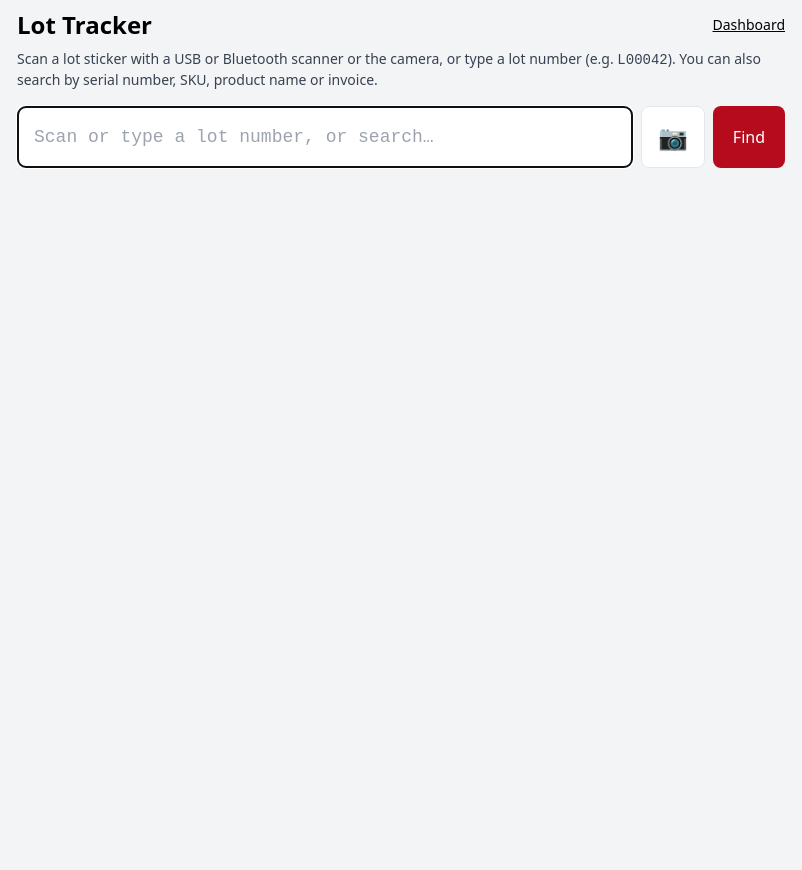
Scenario: search › the box is cleared and re-focused after a scan, ready for the next sticker
Type "L00001" into the field named "Lot number or search" at point(325, 137), box [17, 106, 633, 168]
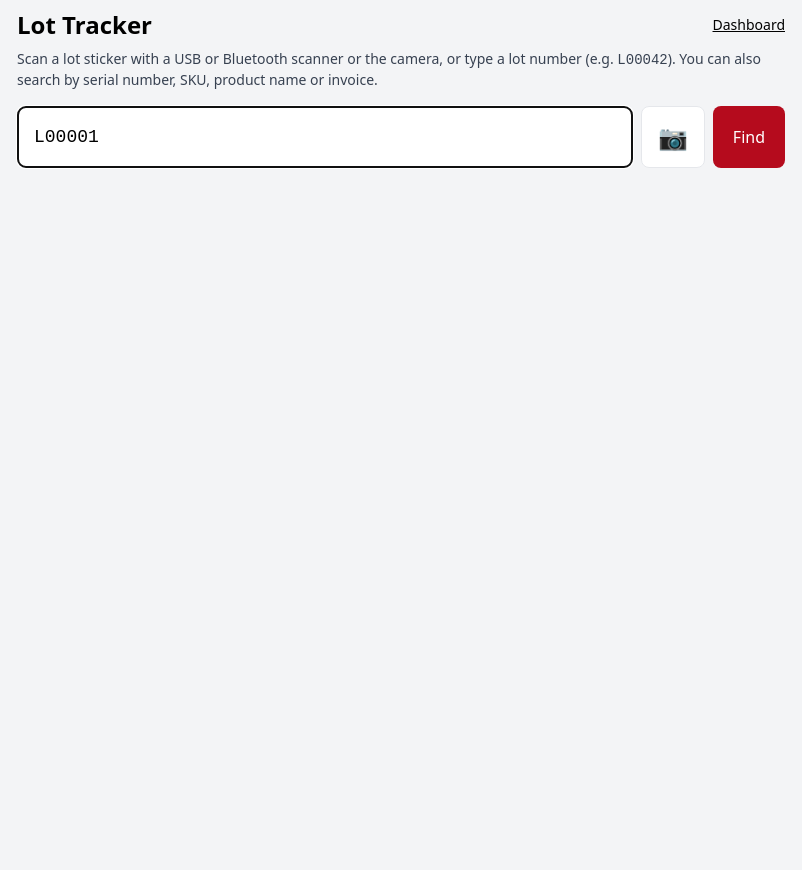
Submit the form, box [17, 106, 785, 168]
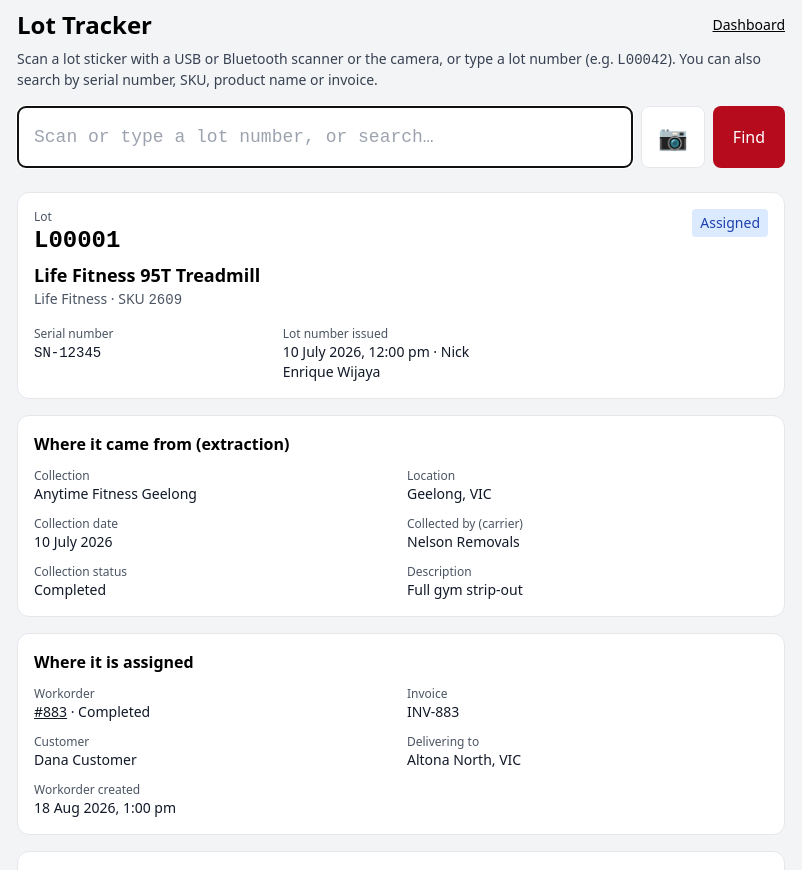
Expected: the heading "L00001" is shown, [34, 227, 120, 254]
Expected: the field named "Lot number or search" is empty, [17, 106, 633, 168]
